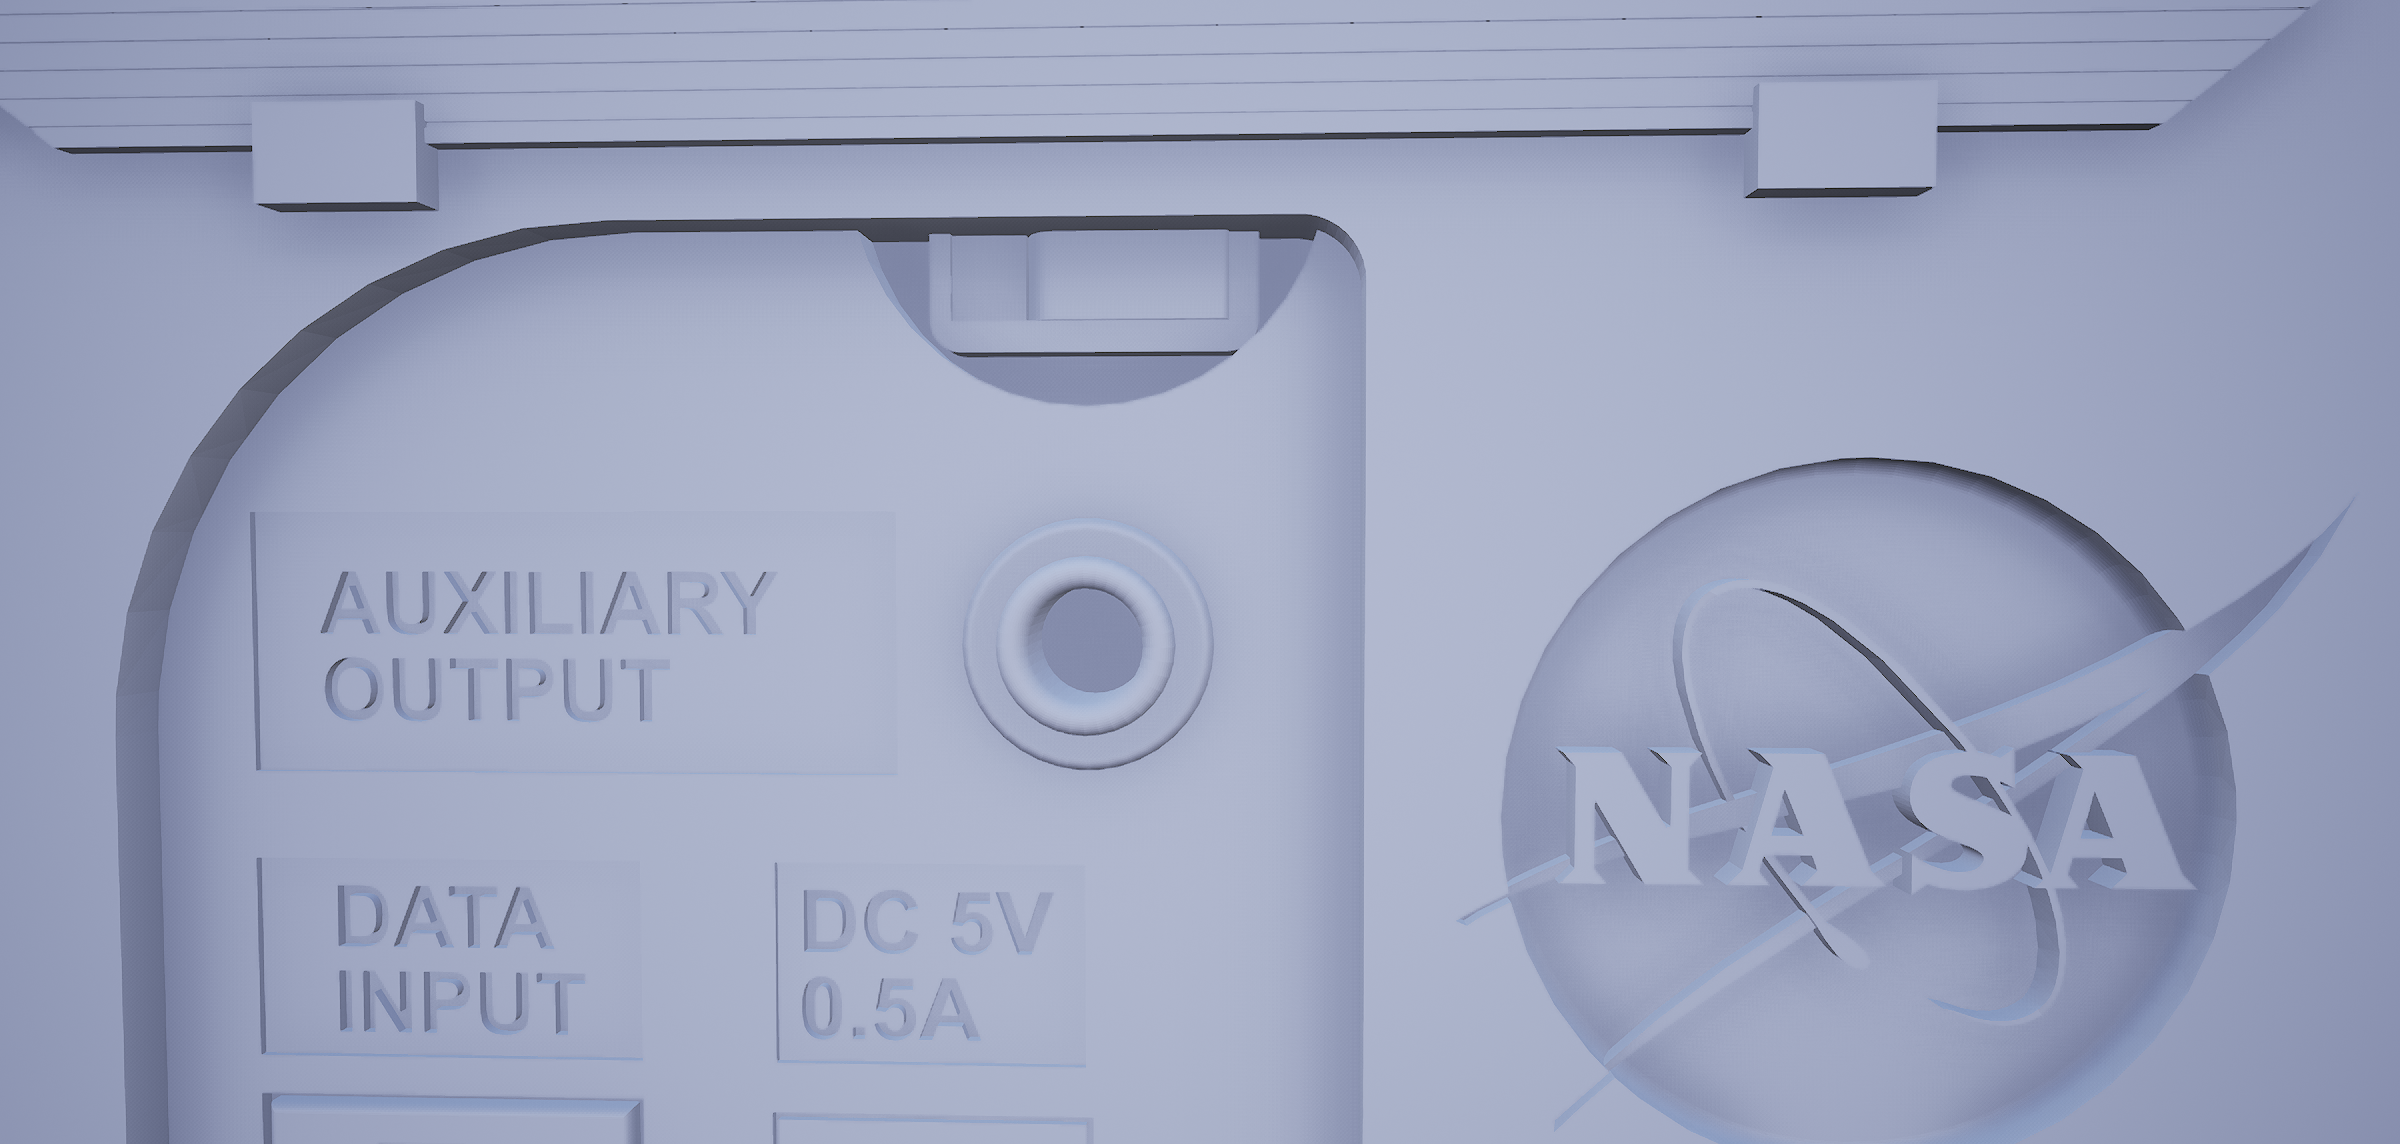aux: (954, 498, 1238, 815)
